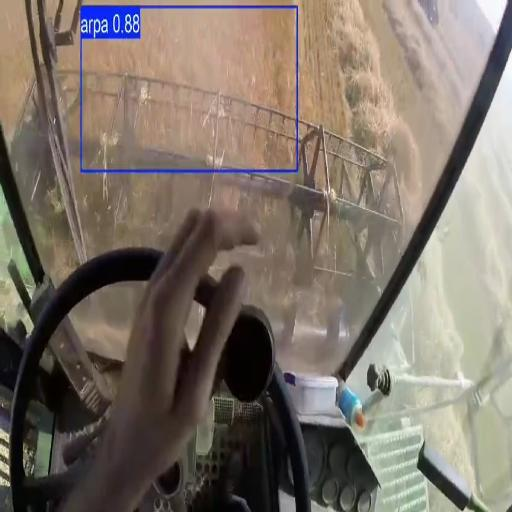arpa: (85, 10, 291, 110), (296, 0, 396, 148)
